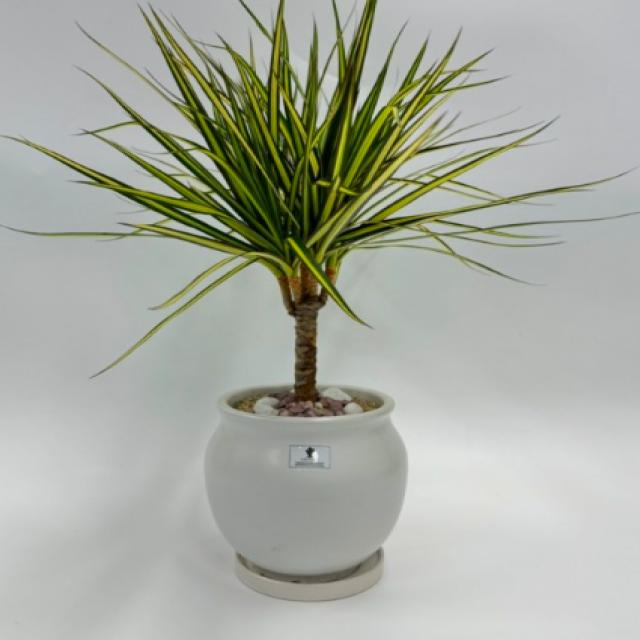Plant Pot: (197, 380, 426, 614)
